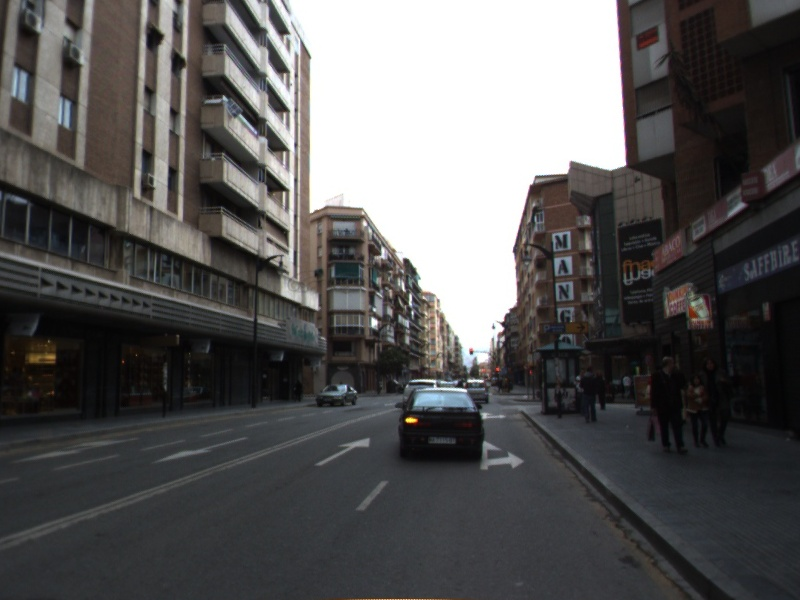STRAIGHT: (312, 435, 372, 468)
STRAIGHT_RIGHT: (479, 439, 527, 472), (478, 410, 509, 421)
